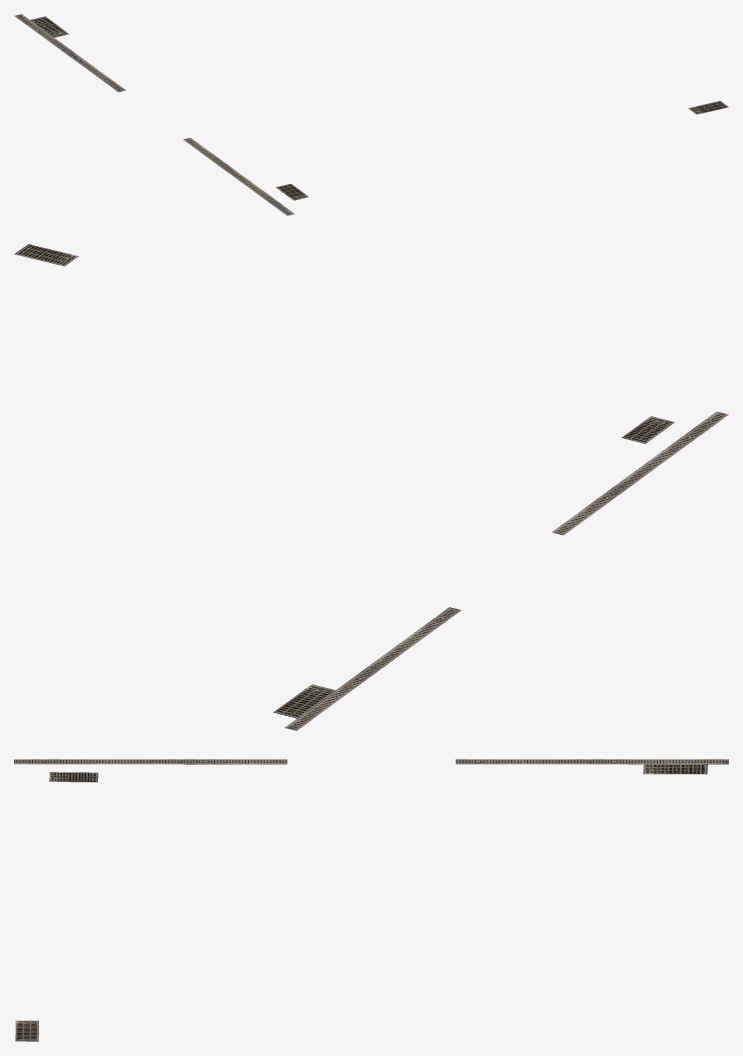
File: SM_TheSamePlace_01_Drain_00.fbx
3 views of the same model, one above another, from view 1: azimuth 30°, elevation 25°; view 2: azimuth 150°, elevation 25°; view 3: azimuth 270°, elevation 25° (orthographic). The views are drawn at different scales.
Visible parts, largest first — view 1: SM_TheSamePlace_01_Drain_00; view 2: SM_TheSamePlace_01_Drain_00; view 3: SM_TheSamePlace_01_Drain_00.
Part boxes in pixels (x1,y1,x2,y2): SM_TheSamePlace_01_Drain_00: (14, 14, 728, 215); SM_TheSamePlace_01_Drain_00: (14, 244, 728, 730); SM_TheSamePlace_01_Drain_00: (14, 759, 728, 1041).
Size of the model in its own units: 3376 by 4.27 by 3611.
